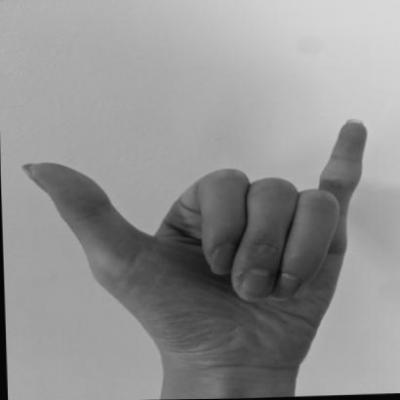hand: (16, 116, 377, 369)
